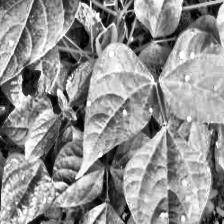Bean Rust: (78, 43, 151, 183), (126, 126, 205, 224), (0, 0, 83, 93), (155, 28, 224, 118)
